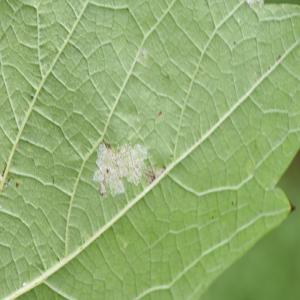Folha: (0, 0, 299, 299)
Fungo: (93, 138, 148, 197), (94, 144, 125, 195), (116, 140, 147, 186), (143, 163, 165, 185), (98, 178, 107, 196), (246, 0, 264, 8), (102, 138, 111, 148), (15, 180, 20, 192), (292, 204, 297, 214), (156, 109, 162, 117)
